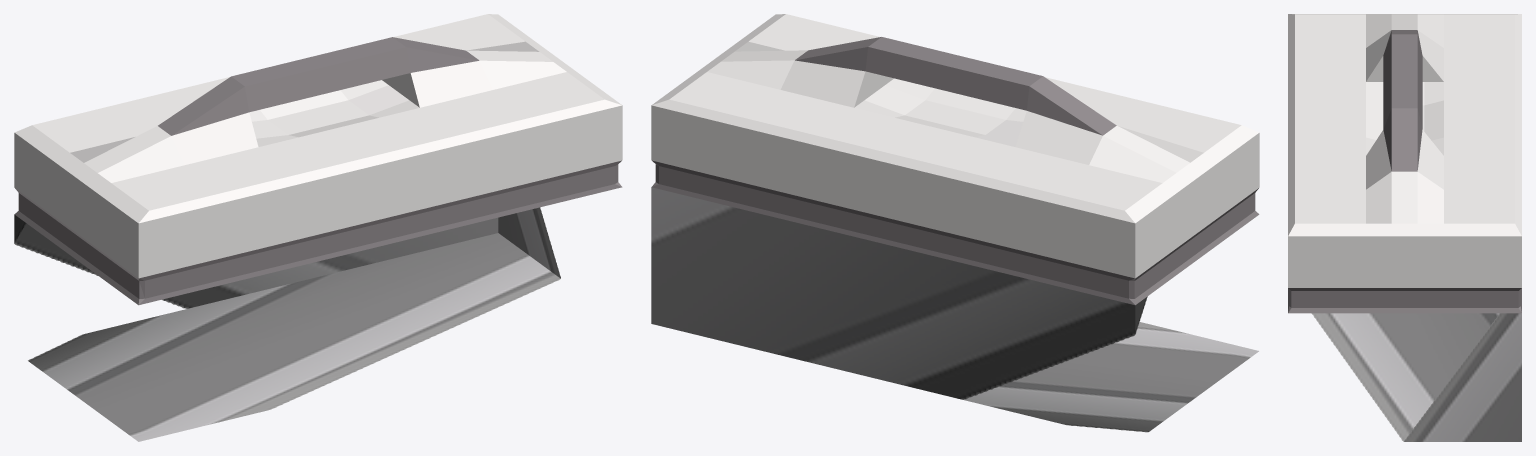
File: toolbox.fbx
The picture shows the model from 3 angles, left to right: view 1: azimuth 30°, elevation 25°; view 2: azimuth 150°, elevation 25°; view 3: azimuth 270°, elevation 25°; orthographic projection. The views are drawn at different scales.
Visible parts, largest first — view 1: Cube.001; view 2: Cube.001; view 3: Cube.001.
Part boxes in pixels (x1,y1,x2,y2): Cube.001: (14, 14, 622, 441); Cube.001: (651, 14, 1259, 432); Cube.001: (1288, 14, 1521, 441).
Bounding box in the file's own units: 45 × 24.51 × 20.
3 materials, 1 textured.
